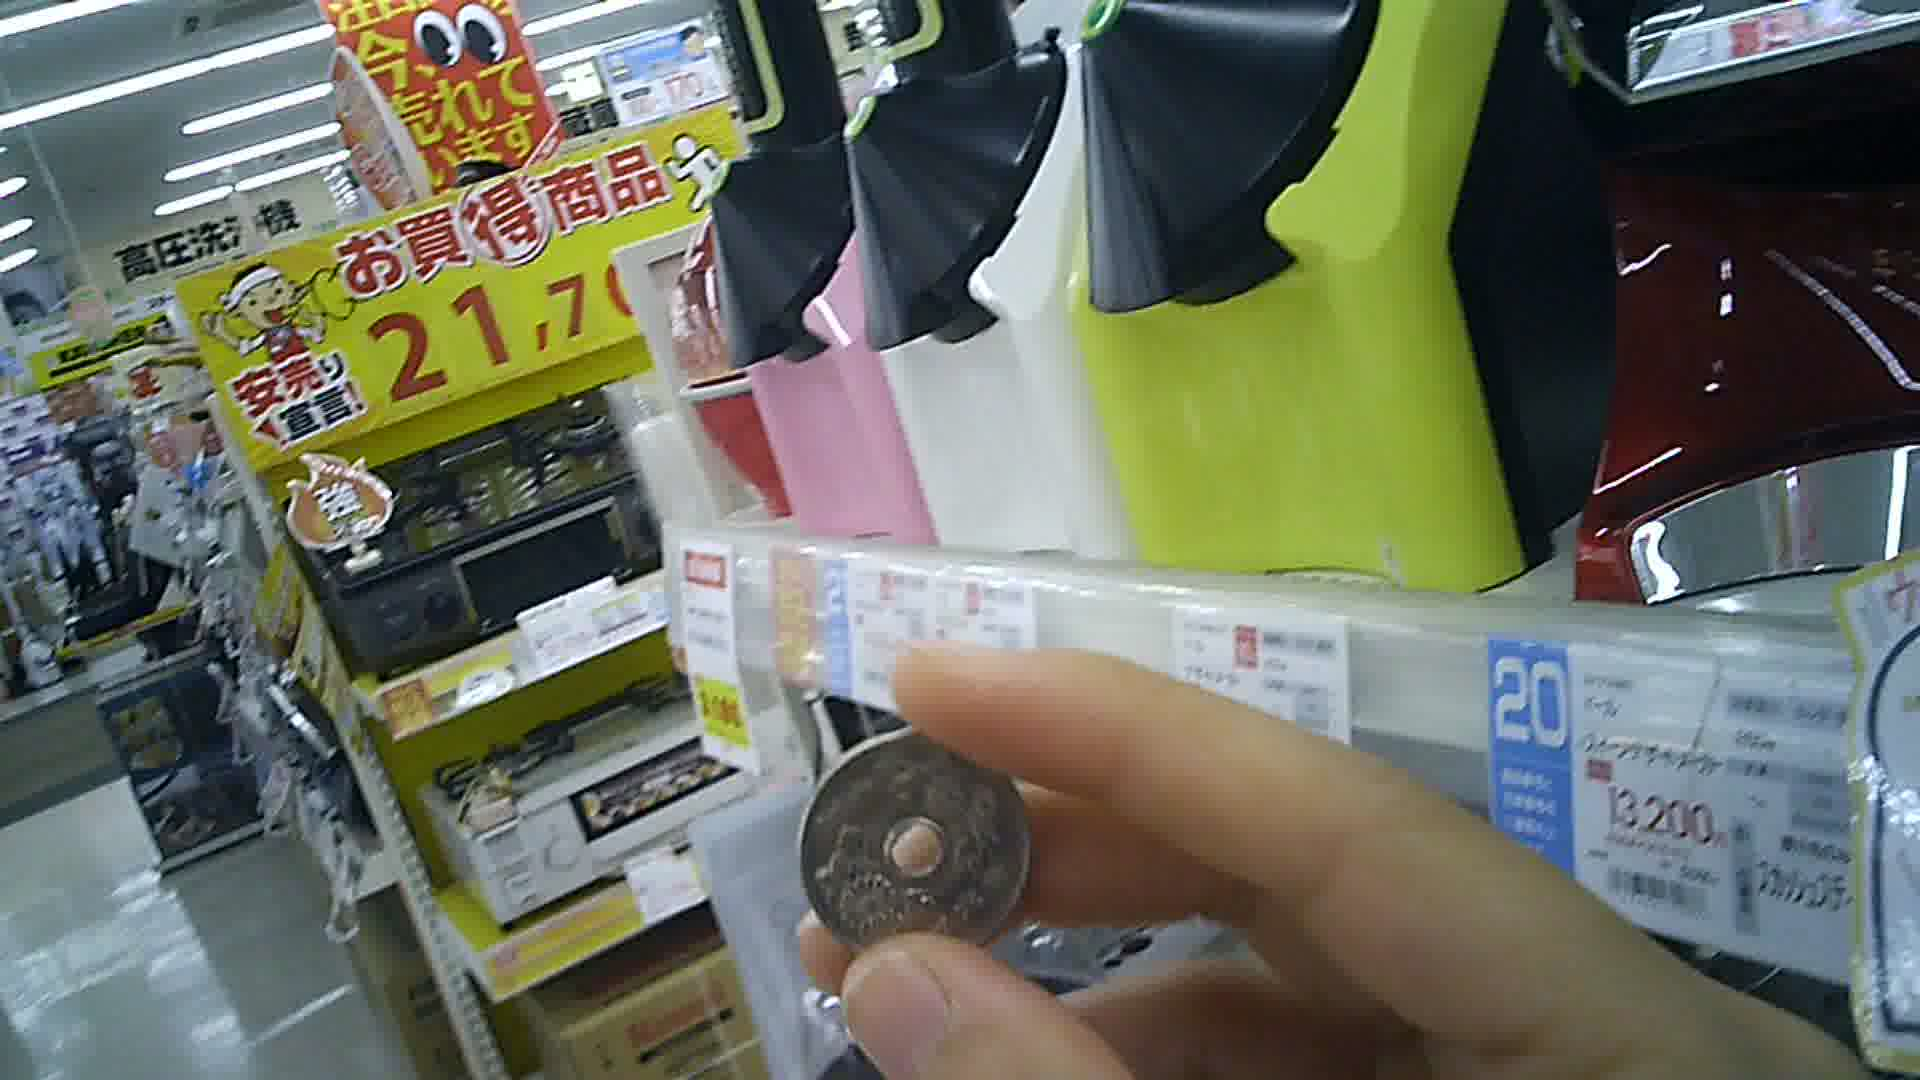50 Yen: (787, 717, 1036, 963)
